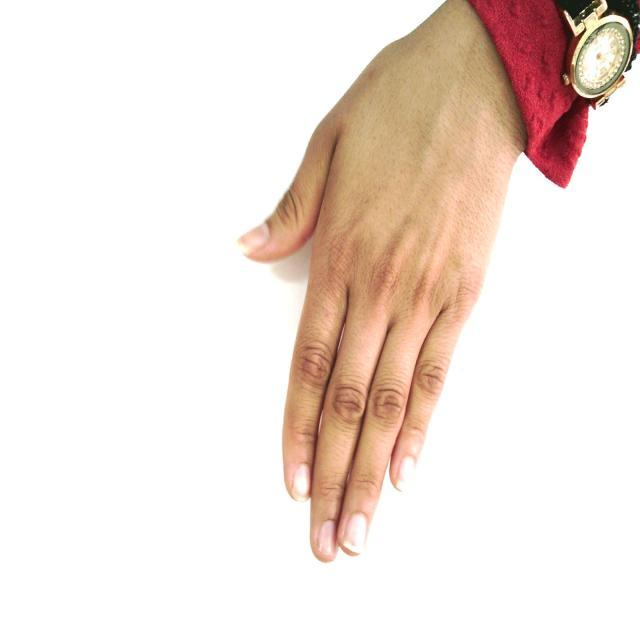Fingernail: (235, 223, 269, 257), (342, 513, 368, 553), (292, 464, 311, 502), (317, 521, 337, 555), (396, 457, 415, 492)
